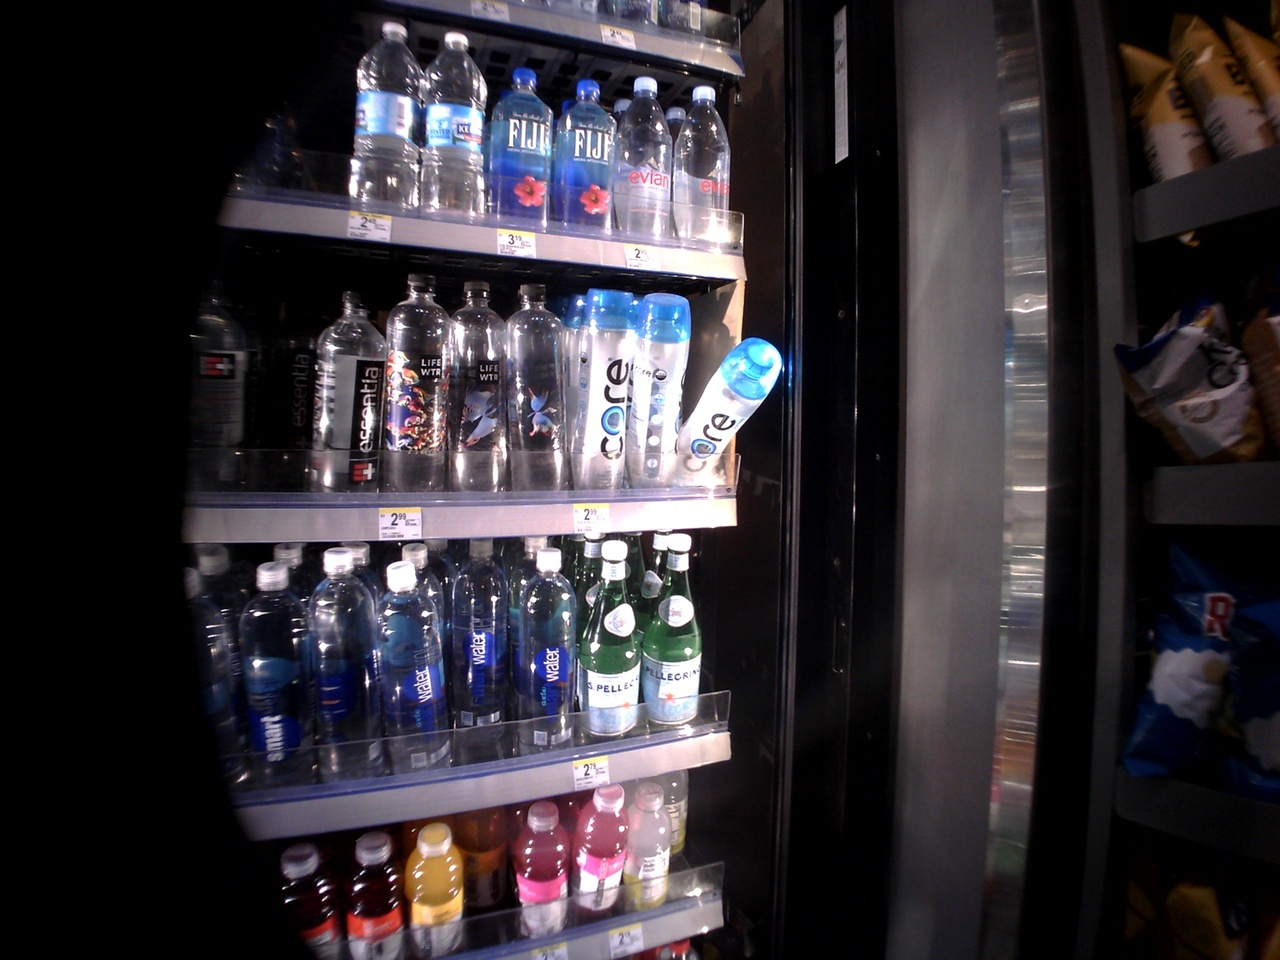shelf: (189, 520, 733, 811), (190, 257, 780, 511), (181, 17, 738, 259), (250, 760, 727, 960)
